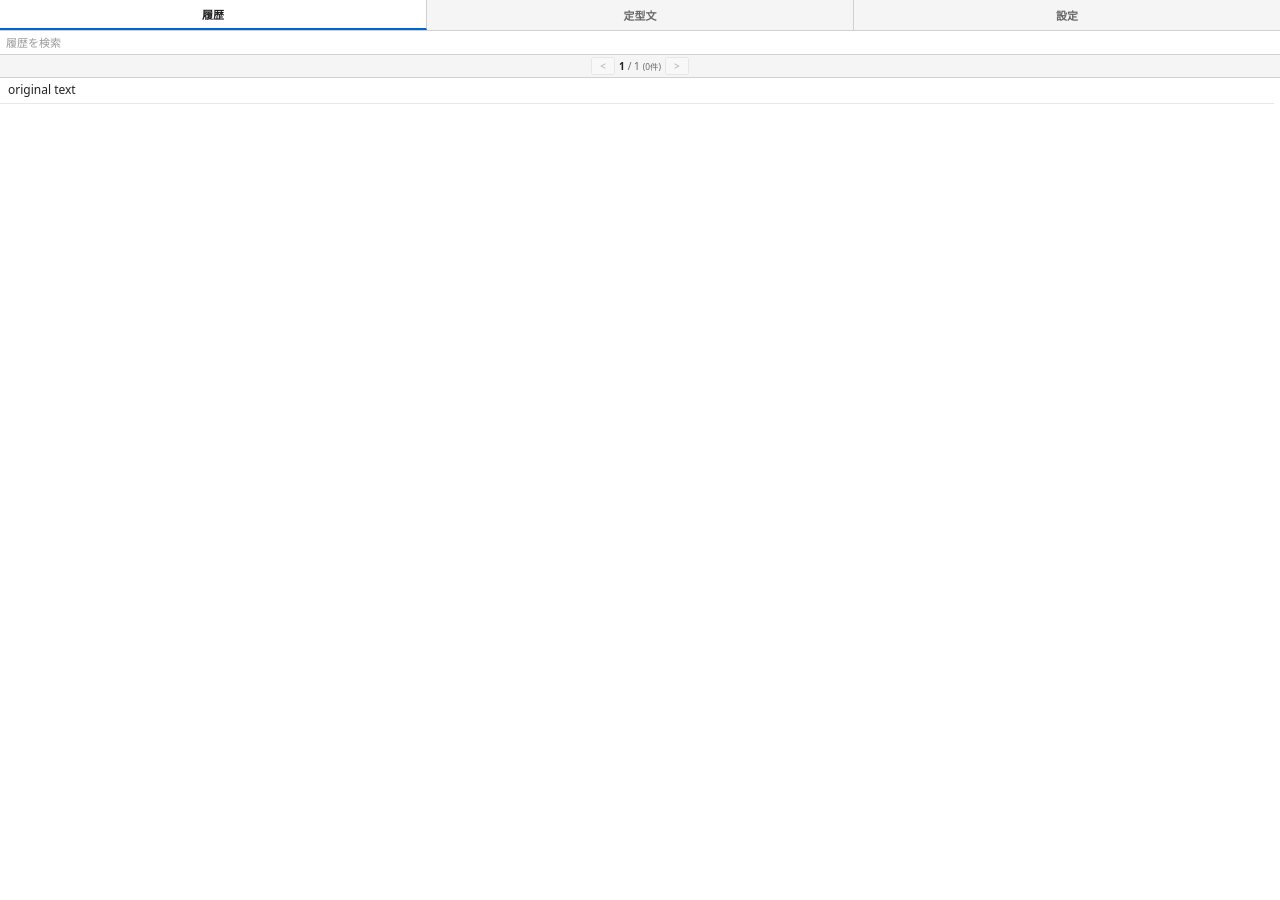
Test: PopupWindow › edit dialog › saves edited text and closes
The image size is (1280, 900).
Right-click the button "original text" at (42, 90), box [0,78,1274,104]
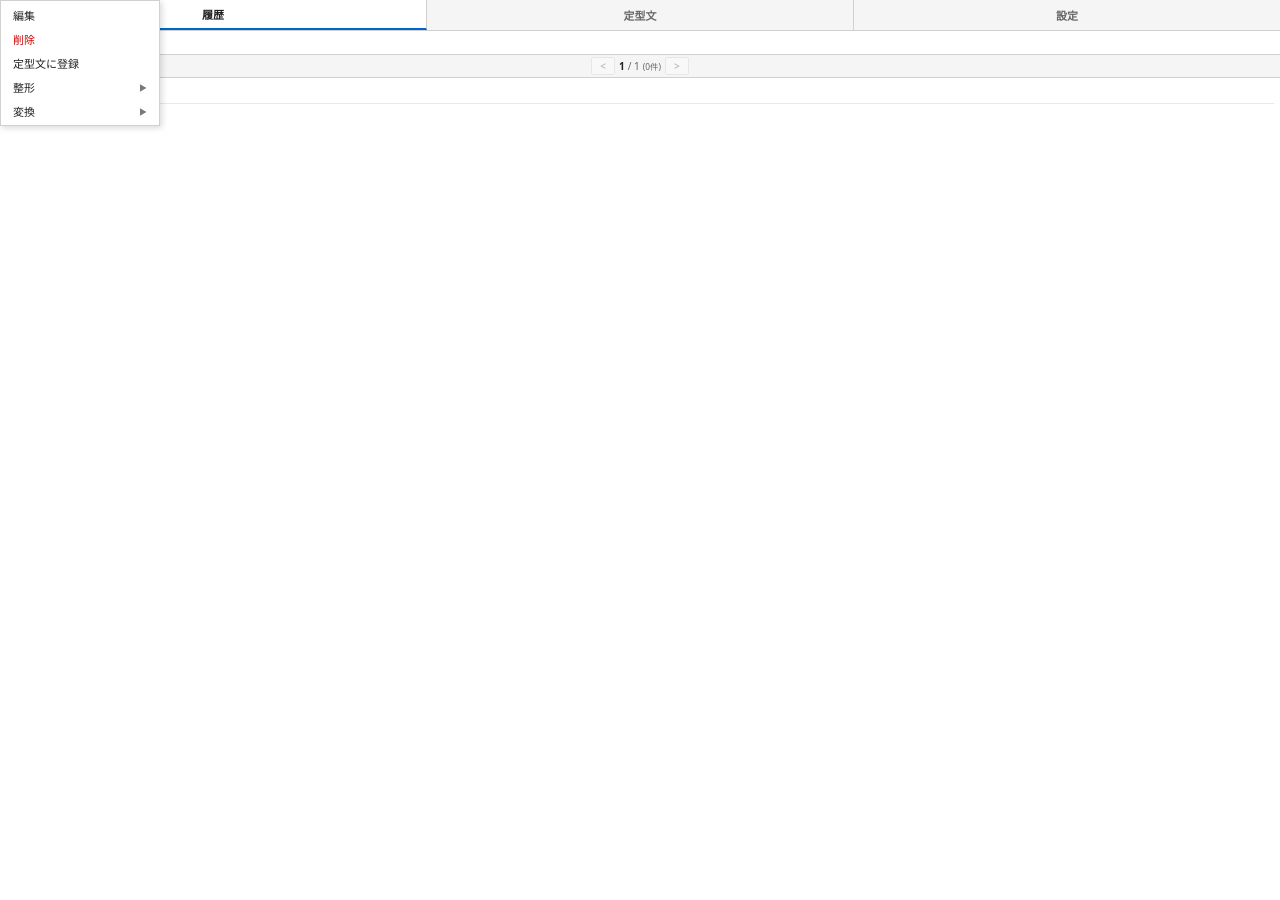
Click the button "編集". click: (80, 15)
box: [1,3,159,27]
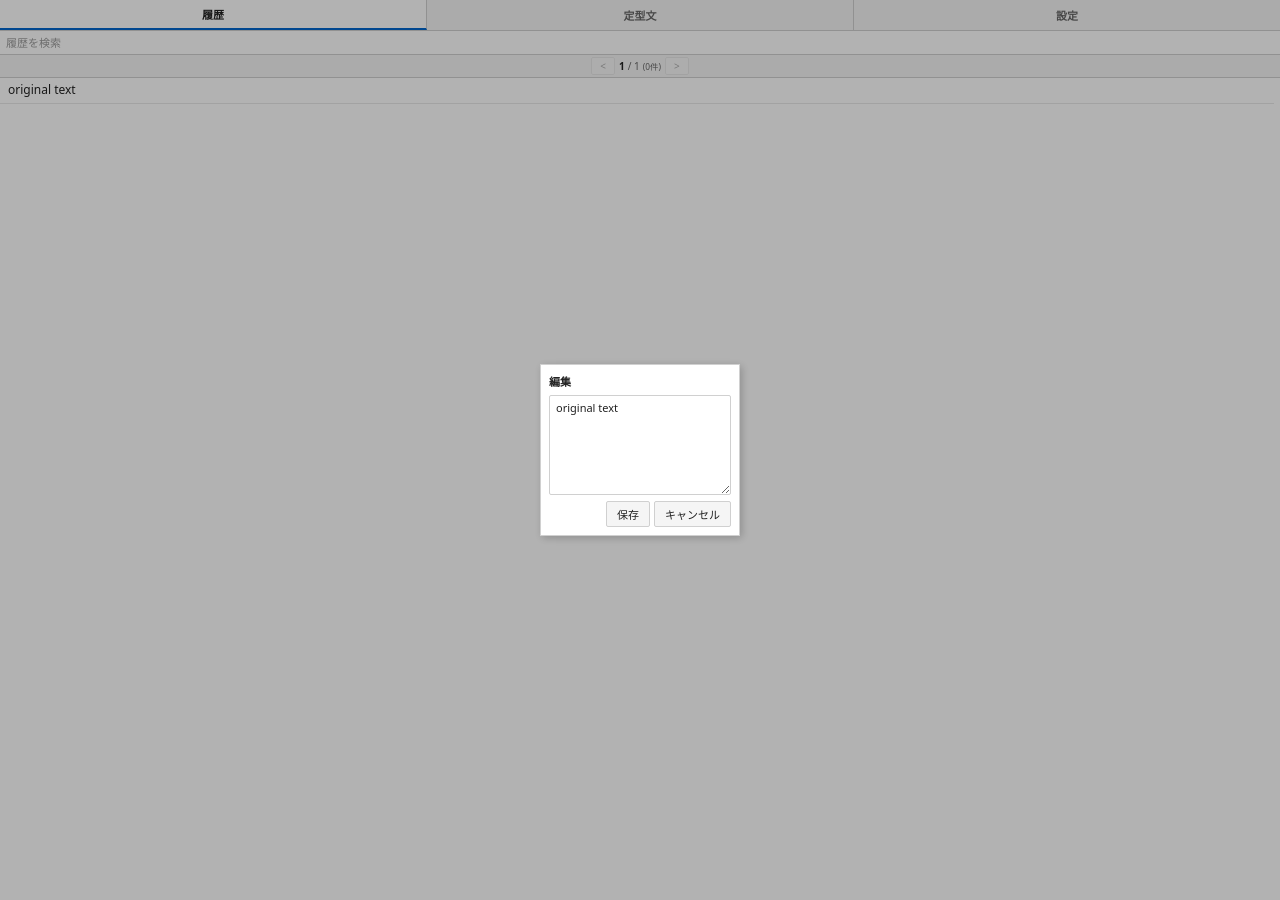
Replace the text in the text box with "new text". click: (640, 445)
box: [549,395,731,495]
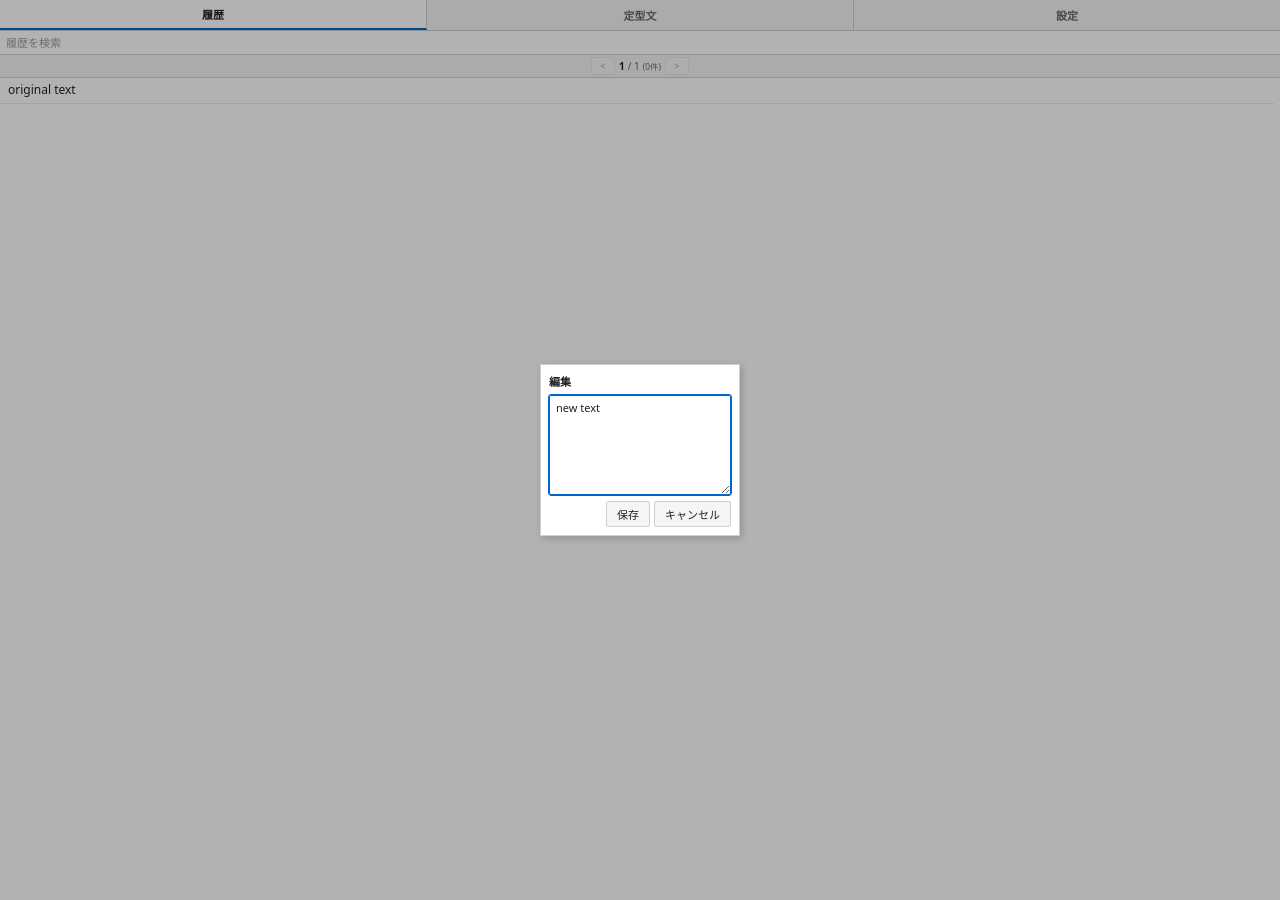
Click the button "保存". click: (628, 514)
box: [606,501,650,527]
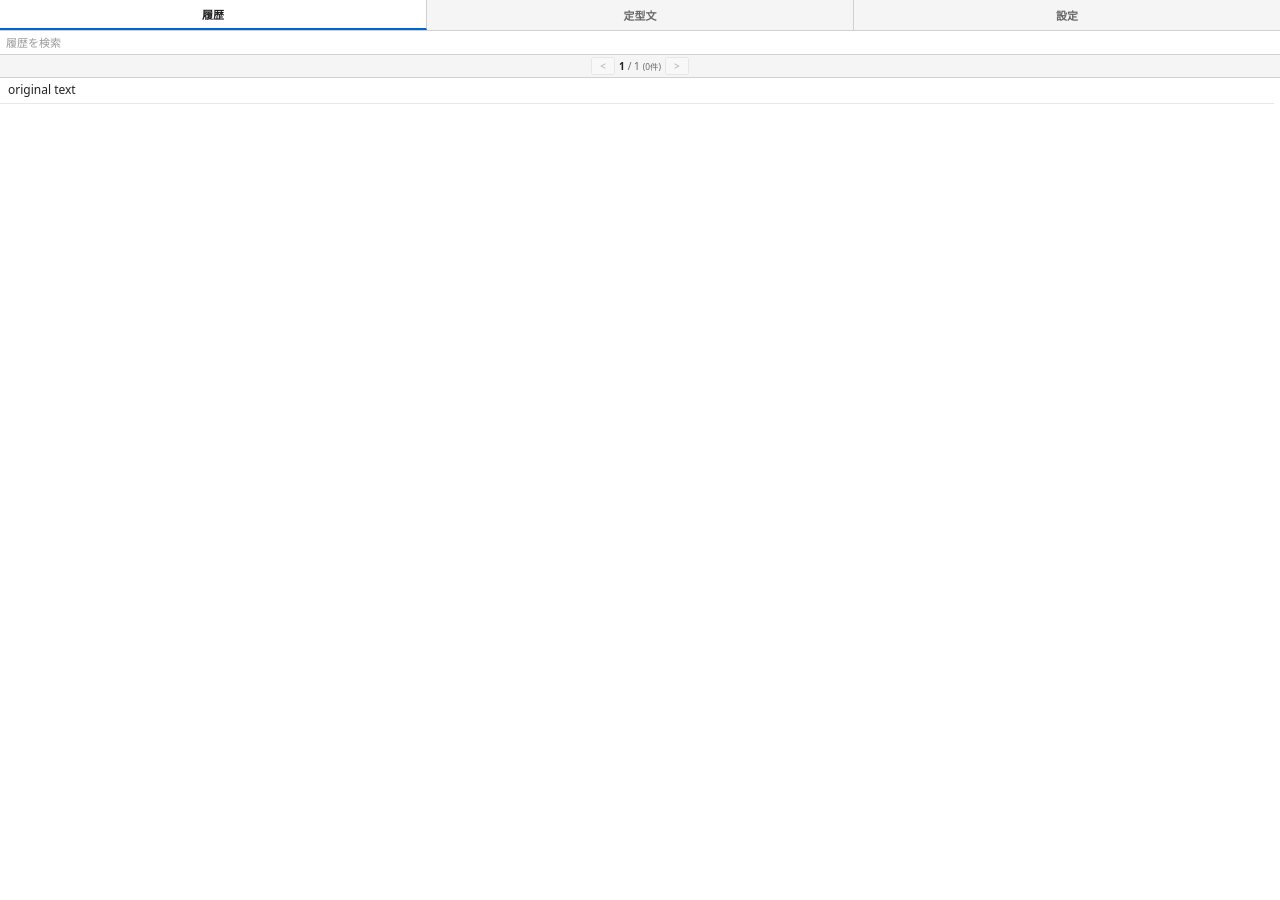
Now the button "保存" is gone
